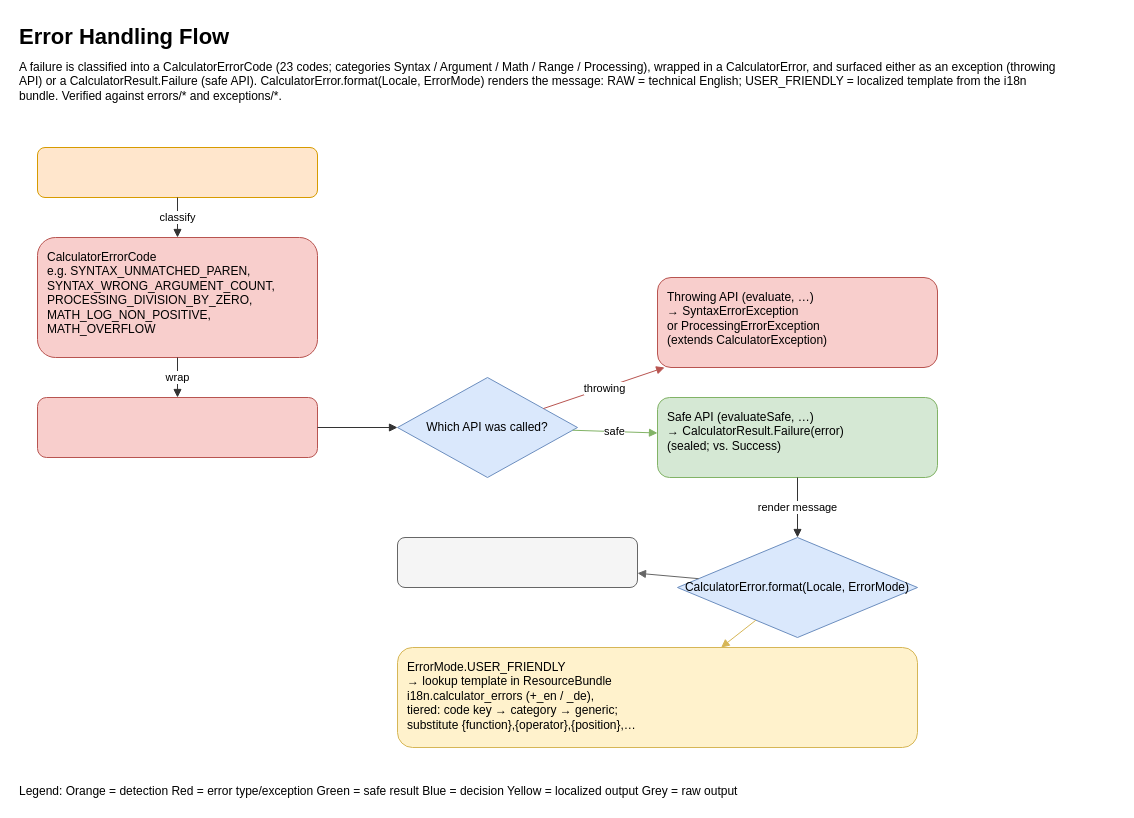
This 1134x818 diagram has some shape labels left out. The shapes that lost their labels are listed below. From the top down, each one's centre as x and y in pixels, then its label:
the point at 177,172: Failure detected in pipeline (tokenize / validate / parse / evaluate)
the point at 177,427: CalculatorError (record) code, params, technicalDetail, position
the point at 517,562: ErrorMode.RAW → technicalDetail (English, technical)
